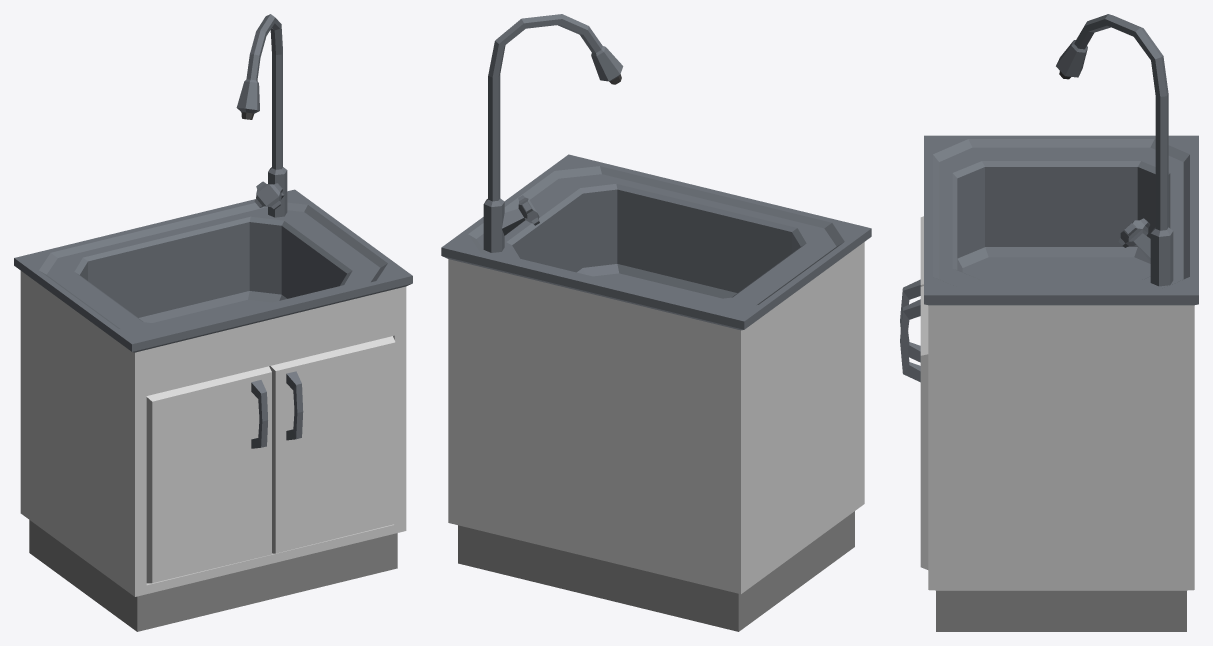
Rendered from SM_Prop_Laundry_Sink_01.fbx.
The picture shows the model from 3 angles, left to right: view 1: azimuth 30°, elevation 25°; view 2: azimuth 150°, elevation 25°; view 3: azimuth 270°, elevation 25°; orthographic projection. The views are drawn at different scales.
Parts seen in each view (by area): view 1: SM_Prop_Laundry_Sink_01, SM_Prop_Laundry_Sink_CabinetDoor_02, SM_Prop_Laundry_Sink_CabinetDoor_01; view 2: SM_Prop_Laundry_Sink_01; view 3: SM_Prop_Laundry_Sink_01, SM_Prop_Laundry_Sink_CabinetDoor_01, SM_Prop_Laundry_Sink_CabinetDoor_02.
Part boxes in pixels (x1=…): SM_Prop_Laundry_Sink_01: x1=14, y1=14, x2=412, y2=631; SM_Prop_Laundry_Sink_CabinetDoor_02: x1=146, y1=366, x2=271, y2=583; SM_Prop_Laundry_Sink_CabinetDoor_01: x1=269, y1=336, x2=395, y2=553; SM_Prop_Laundry_Sink_01: x1=441, y1=14, x2=871, y2=631; SM_Prop_Laundry_Sink_01: x1=924, y1=14, x2=1198, y2=631; SM_Prop_Laundry_Sink_CabinetDoor_01: x1=900, y1=286, x2=928, y2=569; SM_Prop_Laundry_Sink_CabinetDoor_02: x1=900, y1=216, x2=923, y2=362.
Size of the model in its own units: 100 by 170 by 79.08.
